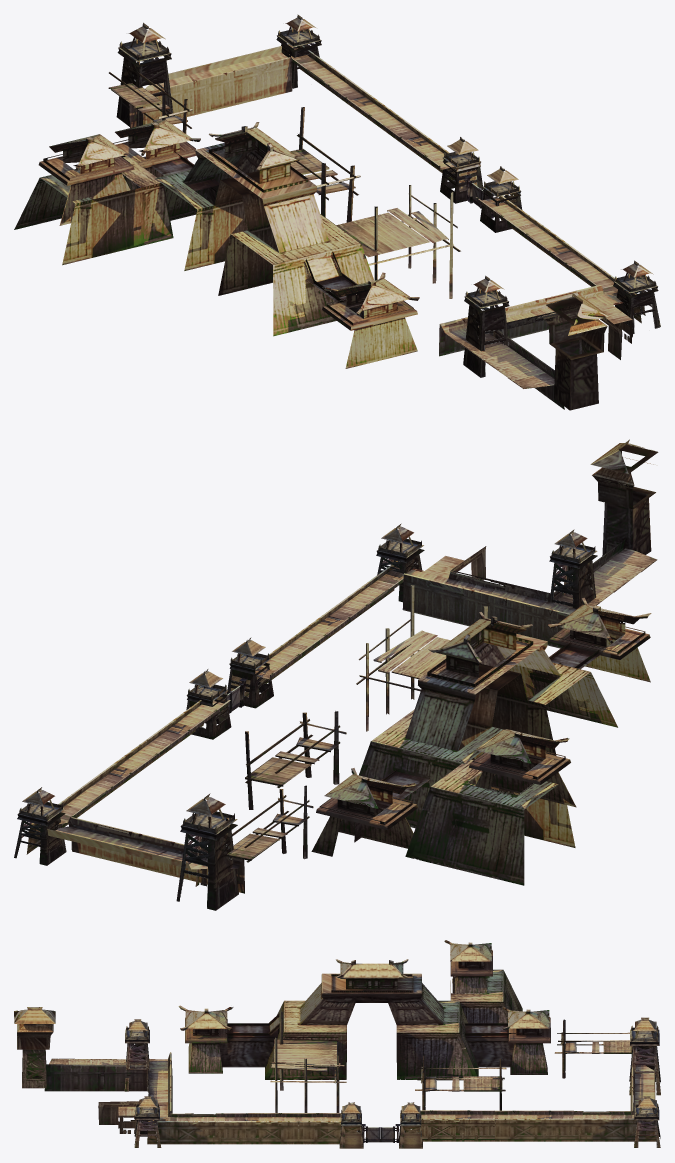
3 renders of one model, top to bottom at view 1: azimuth 30°, elevation 25°; view 2: azimuth 150°, elevation 25°; view 3: azimuth 270°, elevation 25°, orthographic. The views are drawn at different scales.
Parts seen in each view (by area): view 1: Bf_jz01_low; view 2: Bf_jz01_low; view 3: Bf_jz01_low.
Part boxes in pixels (bbox=[...]): Bf_jz01_low: bbox=[14, 14, 660, 410]; Bf_jz01_low: bbox=[14, 439, 658, 910]; Bf_jz01_low: bbox=[14, 940, 660, 1148].
Size of the model in its own units: 142 by 51.43 by 275.
1 material, 1 textured.
